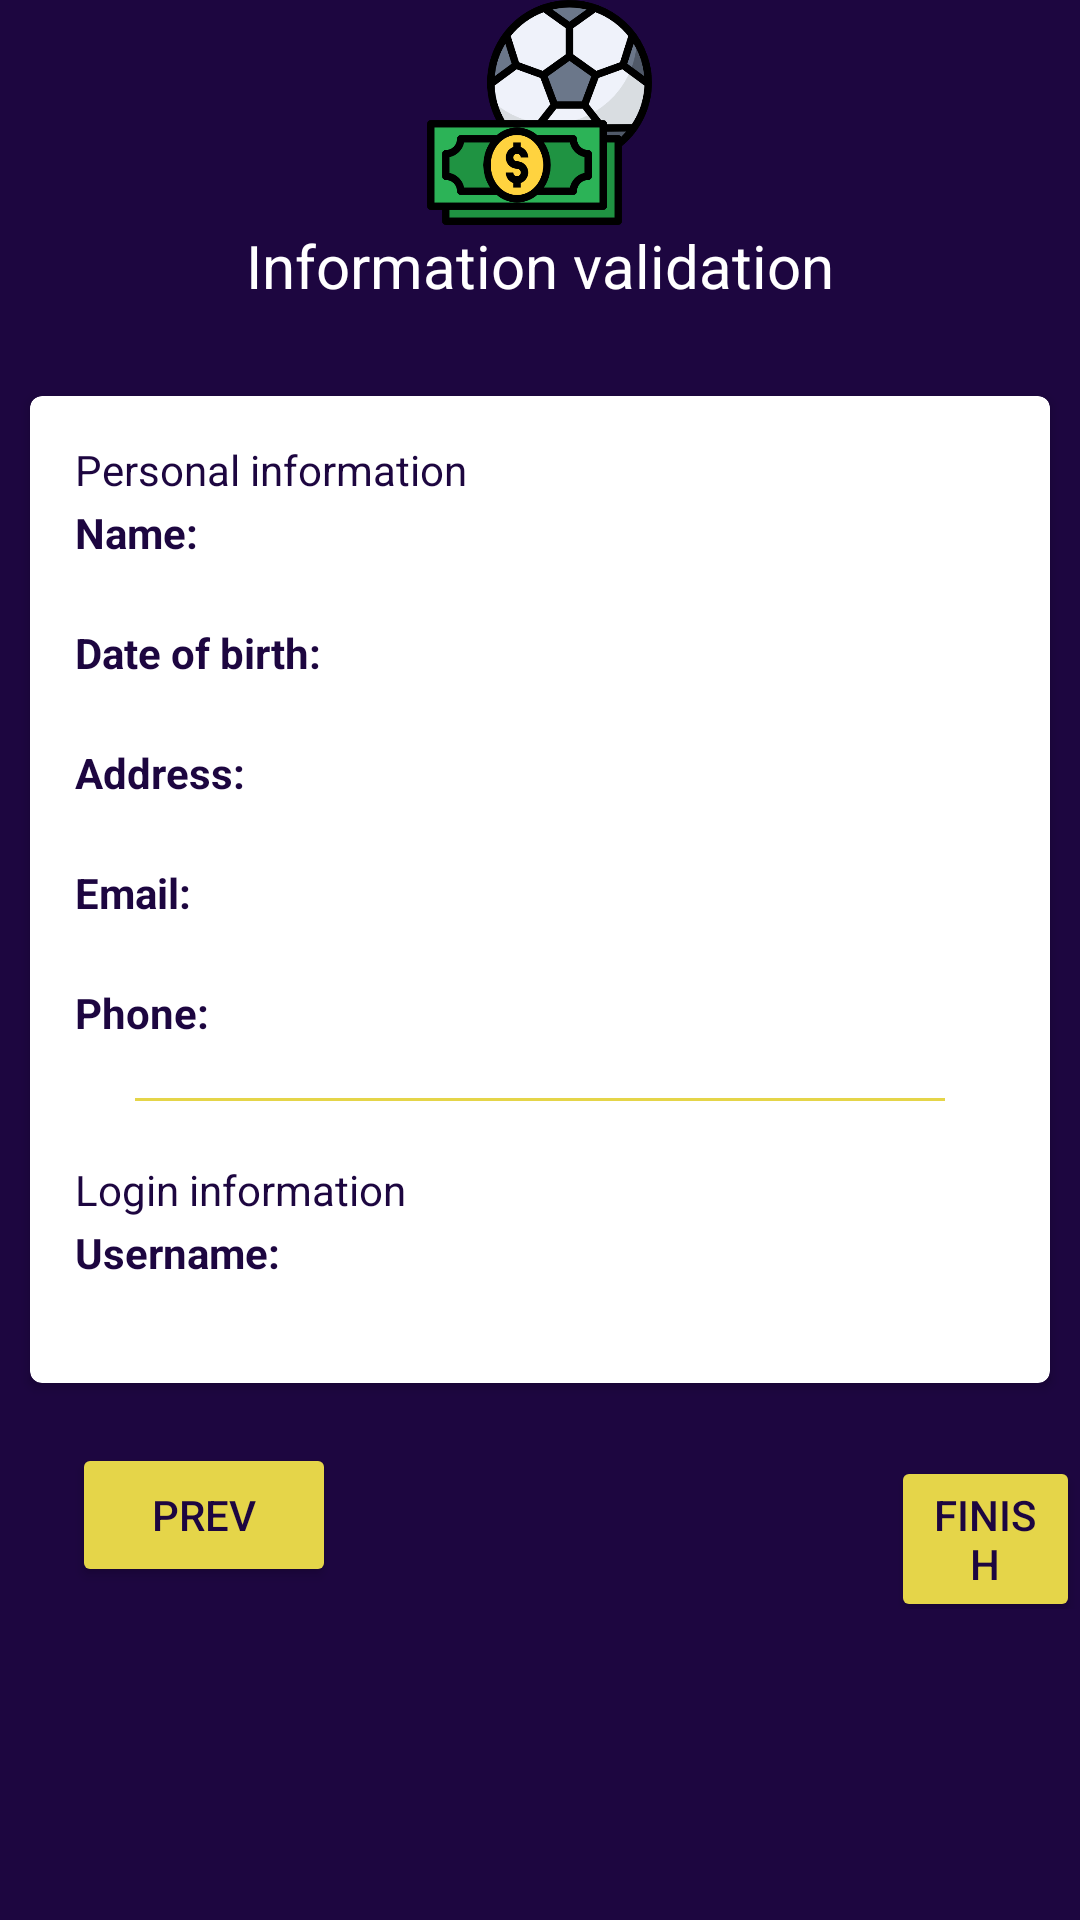

Named icons in this screenshot (1080px x 1920px) and their centers, (x=x, y=y):
money: (x=539, y=112)
